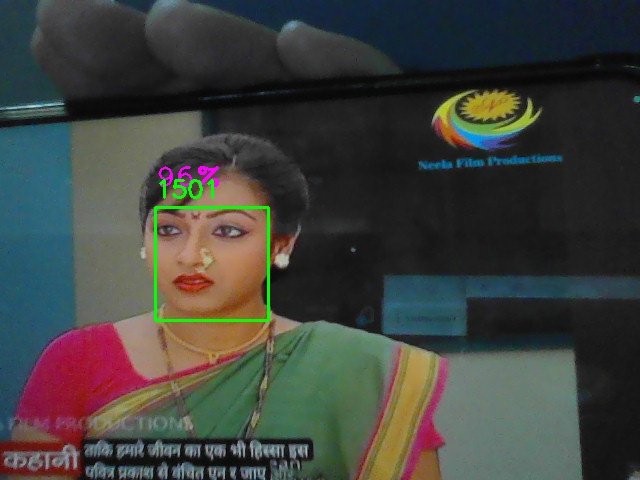fake: (155, 207, 269, 321)
